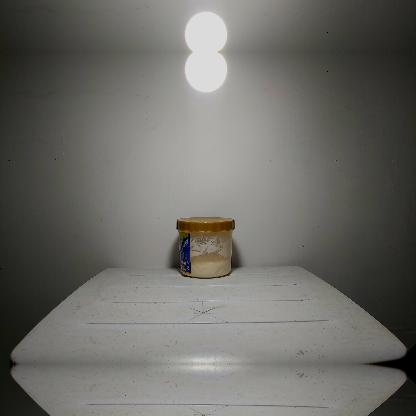Lady-s-Choice: (176, 216, 235, 278)
